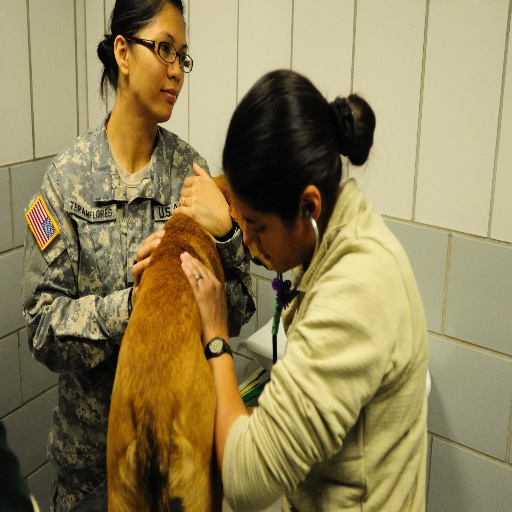hand: (179, 251, 228, 339), (175, 163, 227, 228), (129, 227, 166, 309)
